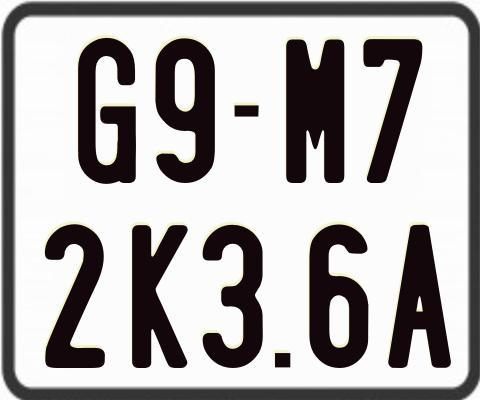2: (44, 221, 109, 370)
3: (202, 223, 266, 370)
6: (306, 224, 367, 370)
7: (363, 36, 425, 184)
9: (155, 37, 215, 188)
A: (386, 223, 452, 367)
G: (75, 37, 133, 187)
K: (131, 224, 188, 367)
M: (283, 39, 345, 184)
